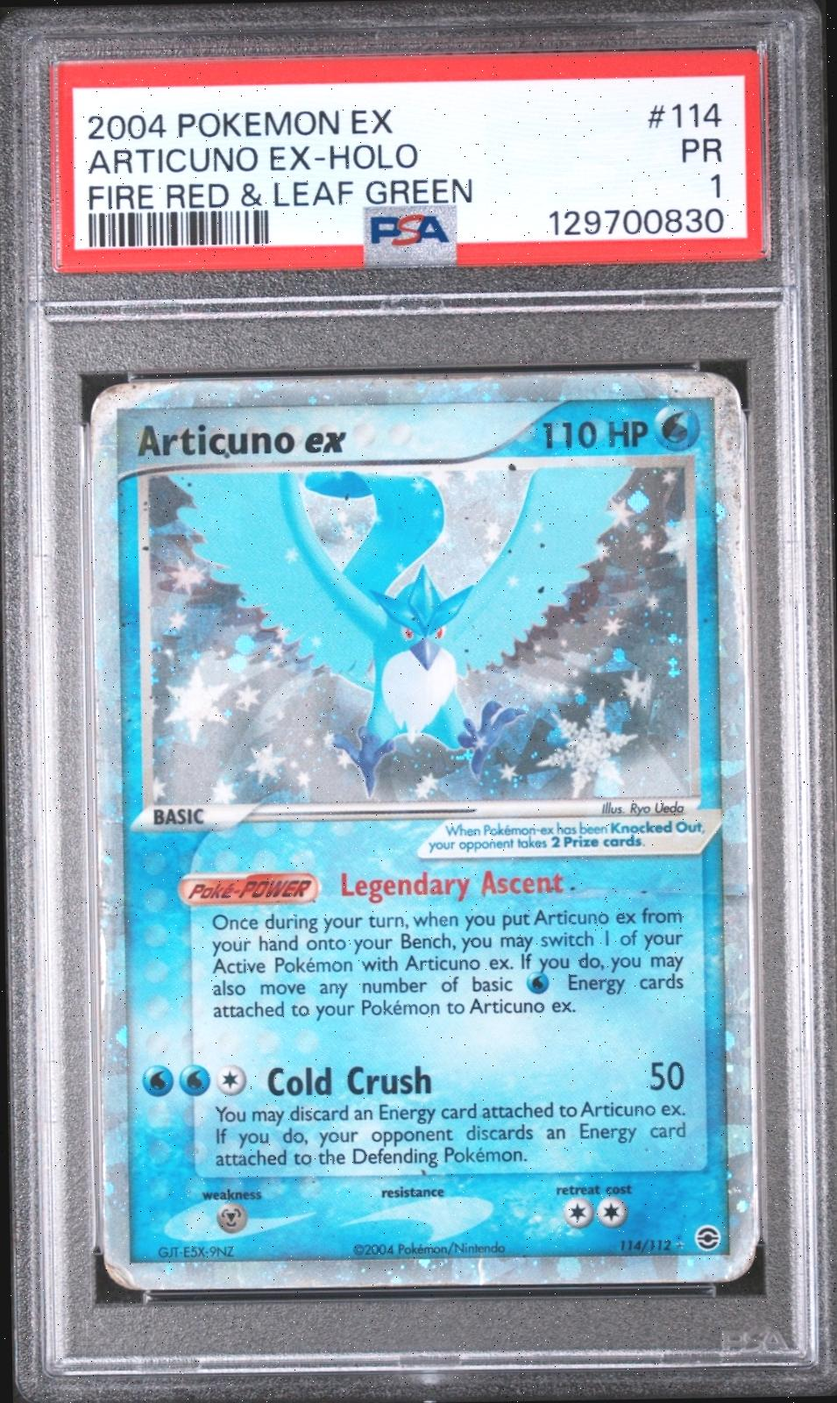card-2UtV: (89, 371, 756, 1291)
